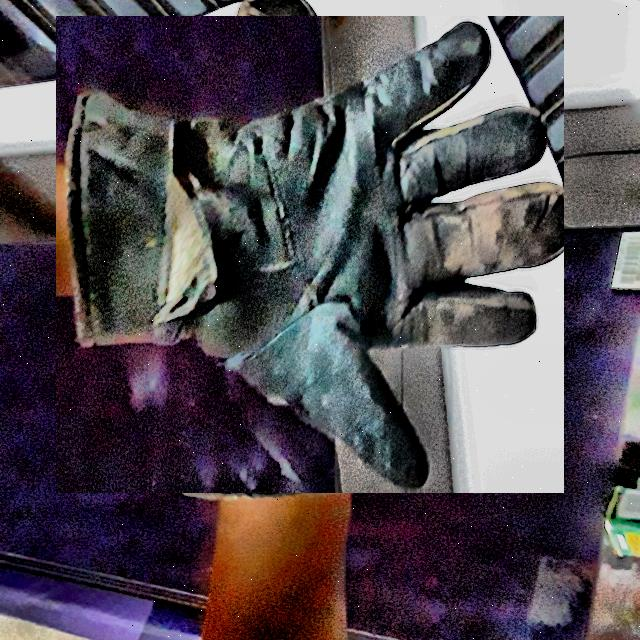gloved: (63, 8, 556, 501)
